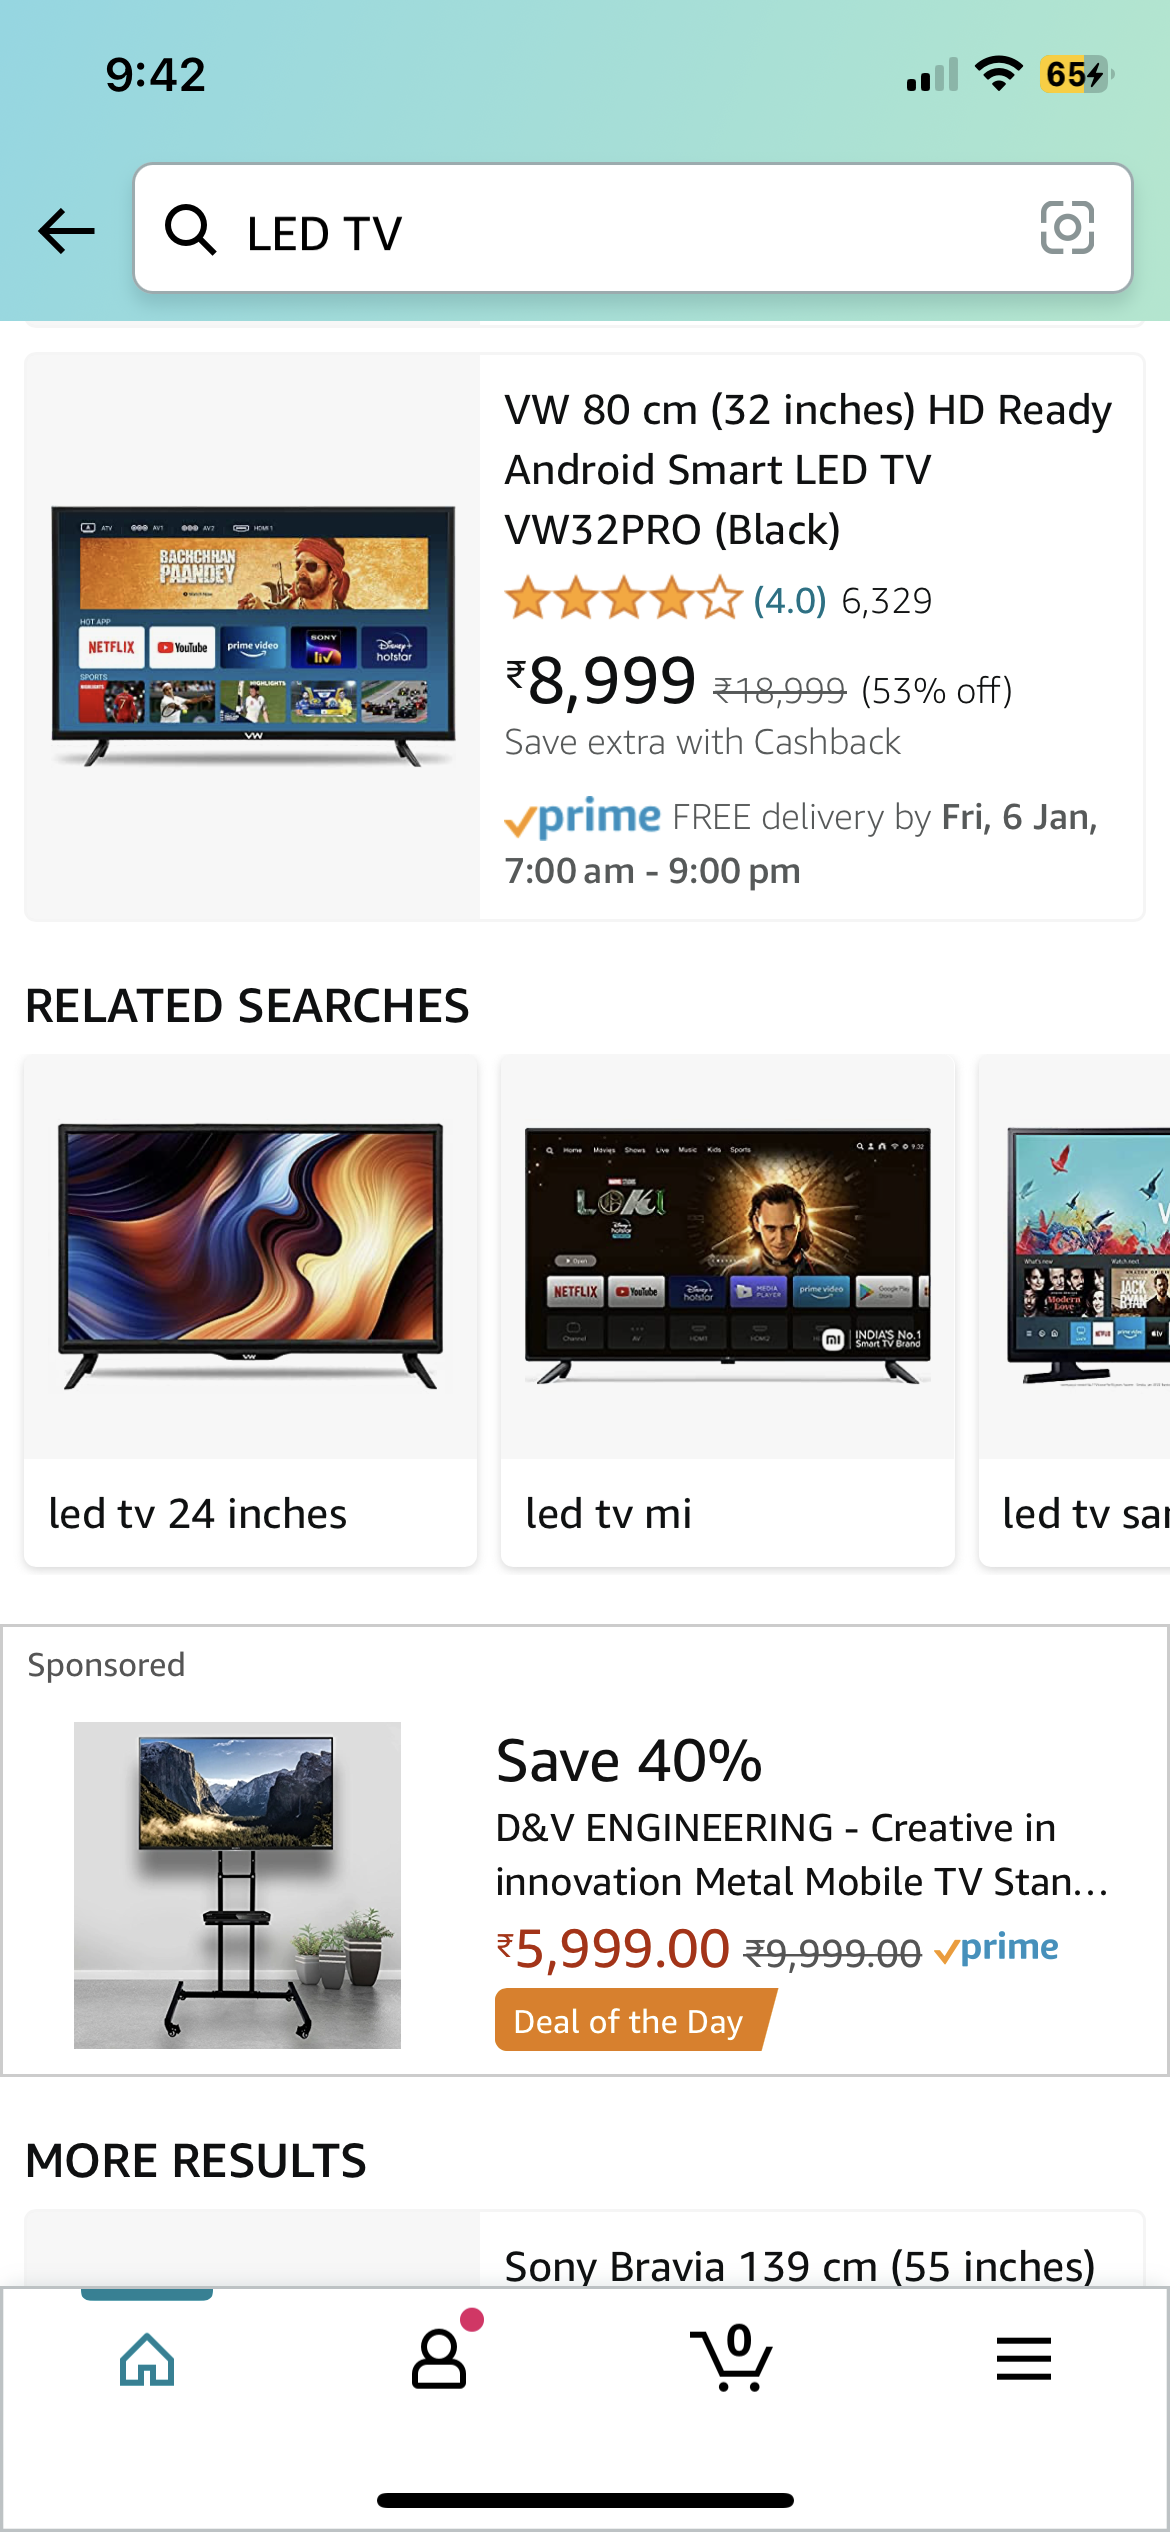LEDTV: (516, 1117, 951, 1392), (44, 499, 462, 773), (53, 1114, 453, 1397)
